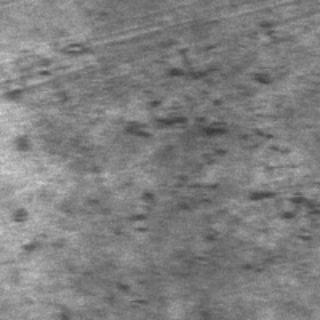rolled pit: (116, 44, 316, 255), (3, 40, 86, 308)
